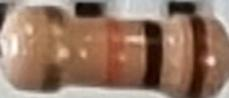Black: (143, 20, 162, 89)
Brown: (185, 17, 206, 97)
Orange: (103, 20, 124, 86)
Side-Gold: (42, 7, 63, 91)
